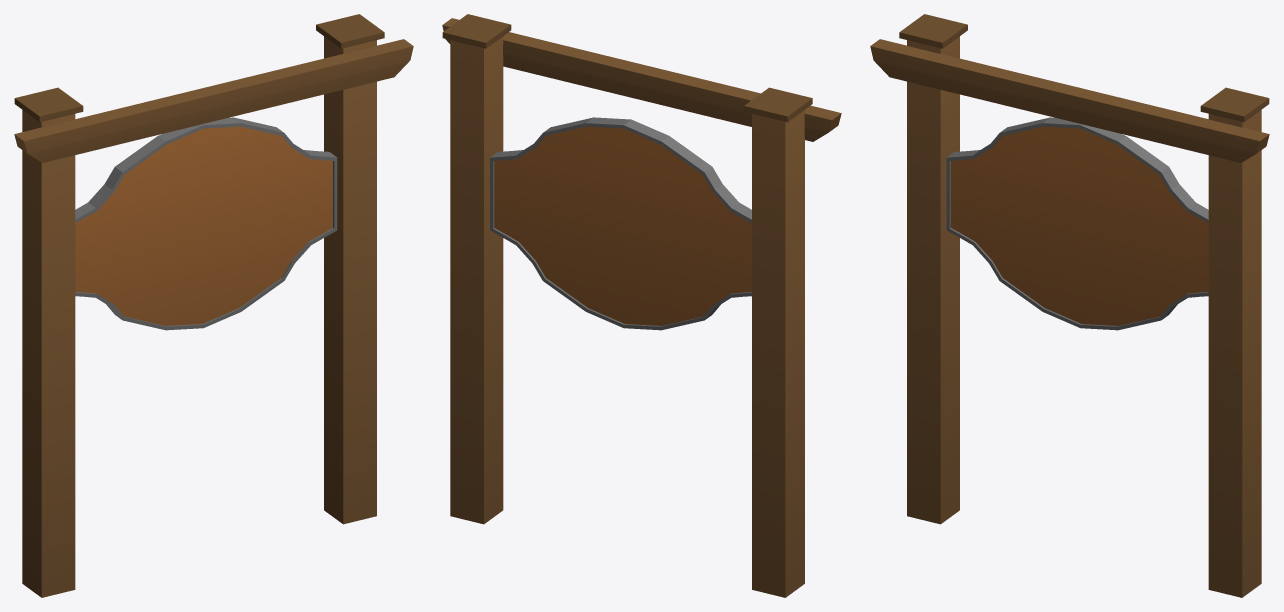
File: Bld_Farm_Sign_03.obj
The picture shows the model from 3 angles, left to right: view 1: azimuth 30°, elevation 25°; view 2: azimuth 150°, elevation 25°; view 3: azimuth 330°, elevation 25°; orthographic projection.
Parts seen in each view (by area): view 1: Bld_Farm_Sign_03; view 2: Bld_Farm_Sign_03; view 3: Bld_Farm_Sign_03.
Part boxes in pixels (bbox=[...]): Bld_Farm_Sign_03: bbox=[14, 14, 413, 597]; Bld_Farm_Sign_03: bbox=[442, 14, 841, 597]; Bld_Farm_Sign_03: bbox=[870, 14, 1269, 597].
Size of the model in its own units: 1.79 by 2.13 by 0.2536.
Materials: 1 (1 with a texture image).
